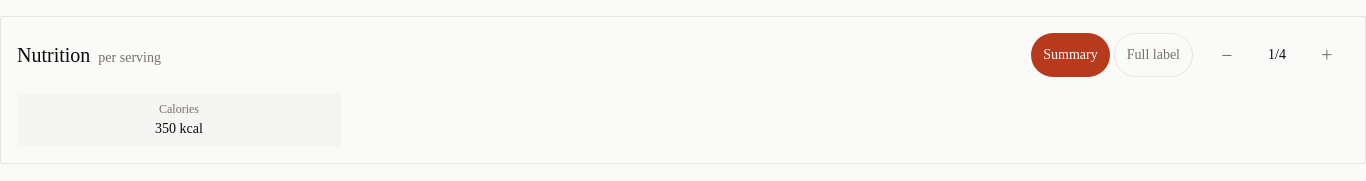
Test: NutritionPanel › scales values and flips to 'per portion' when portions differ from servings
Click the button named "larger portion size": [1227, 55] box [1205,33,1249,77]
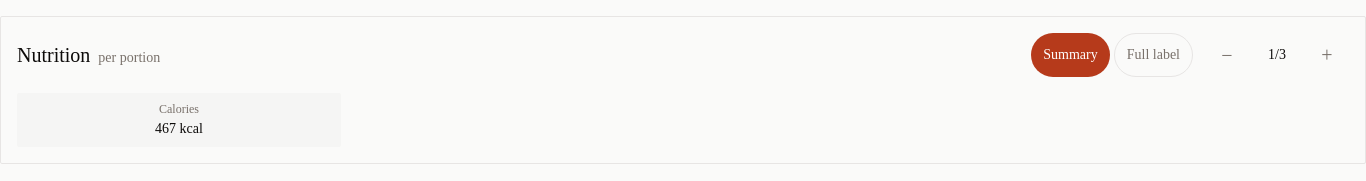
Click the button named "larger portion size": [1227, 55] box [1205,33,1249,77]
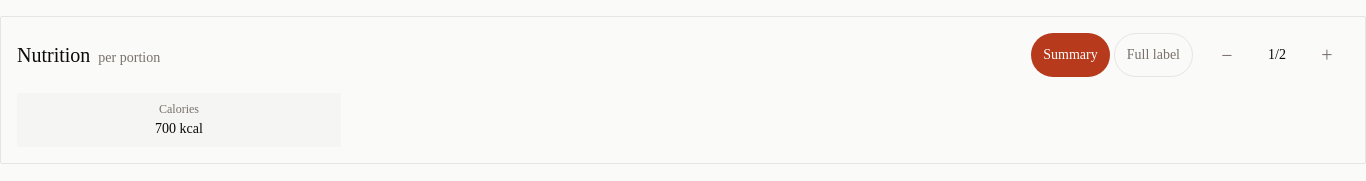
Expected: the text "per portion" is shown, [98,48,160,68]
Expected: the text "700 kcal" is shown, [155,121,203,136]
